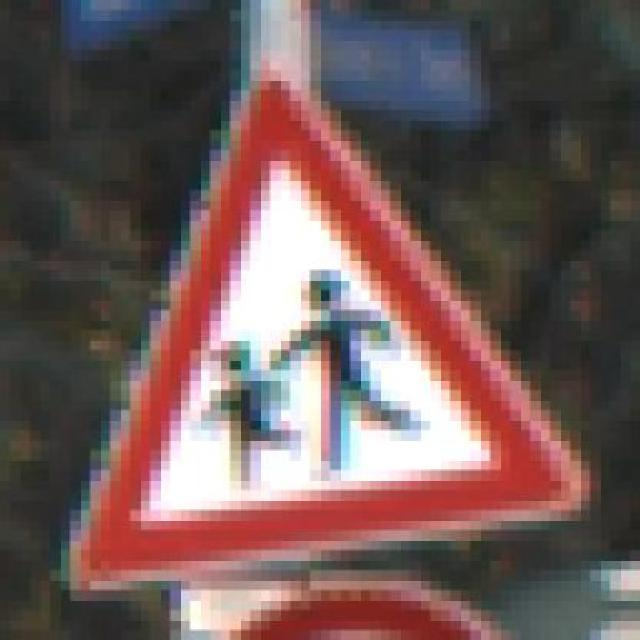Beware of children: (59, 60, 590, 580)
